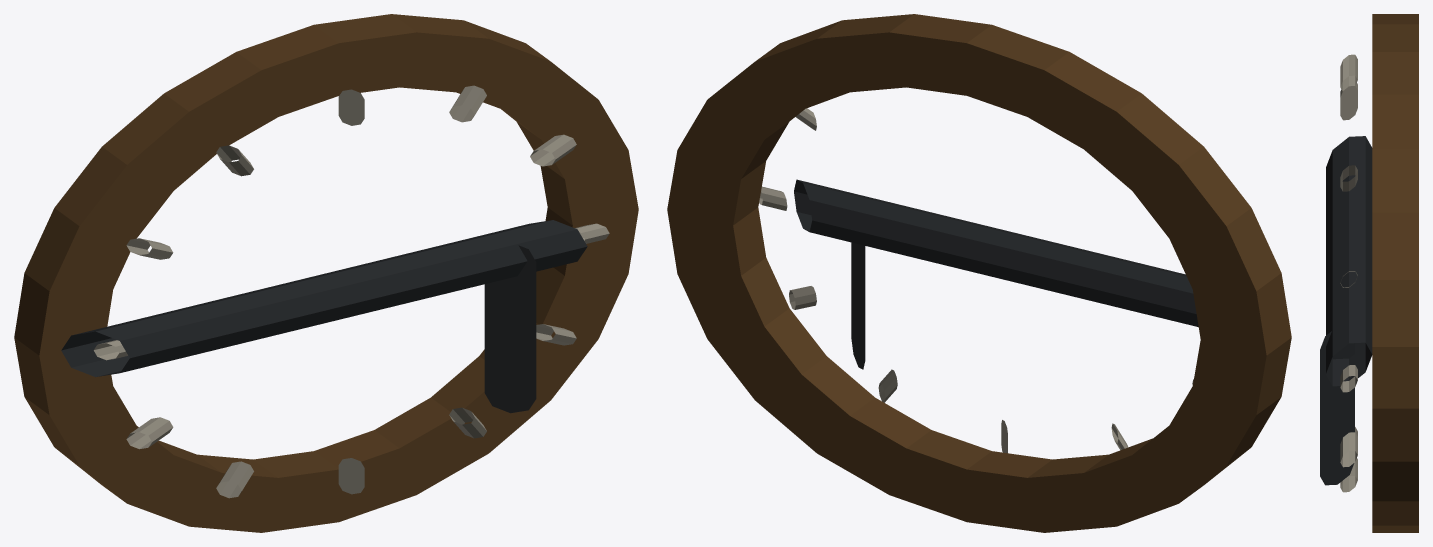
The picture shows the model from 3 angles, left to right: view 1: azimuth 30°, elevation 25°; view 2: azimuth 150°, elevation 25°; view 3: azimuth 270°, elevation 25°; orthographic projection. The views are drawn at different scales.
Visible parts, largest first — view 1: RatiborBeltBuckle; view 2: RatiborBeltBuckle; view 3: RatiborBeltBuckle.
Part boxes in pixels (left/top/right/bottom): RatiborBeltBuckle: left=14, top=14, right=638, bottom=532; RatiborBeltBuckle: left=667, top=14, right=1291, bottom=532; RatiborBeltBuckle: left=1320, top=14, right=1418, bottom=532.
Bounding box in the file's own units: 0.11 × 0.084 × 0.017.
